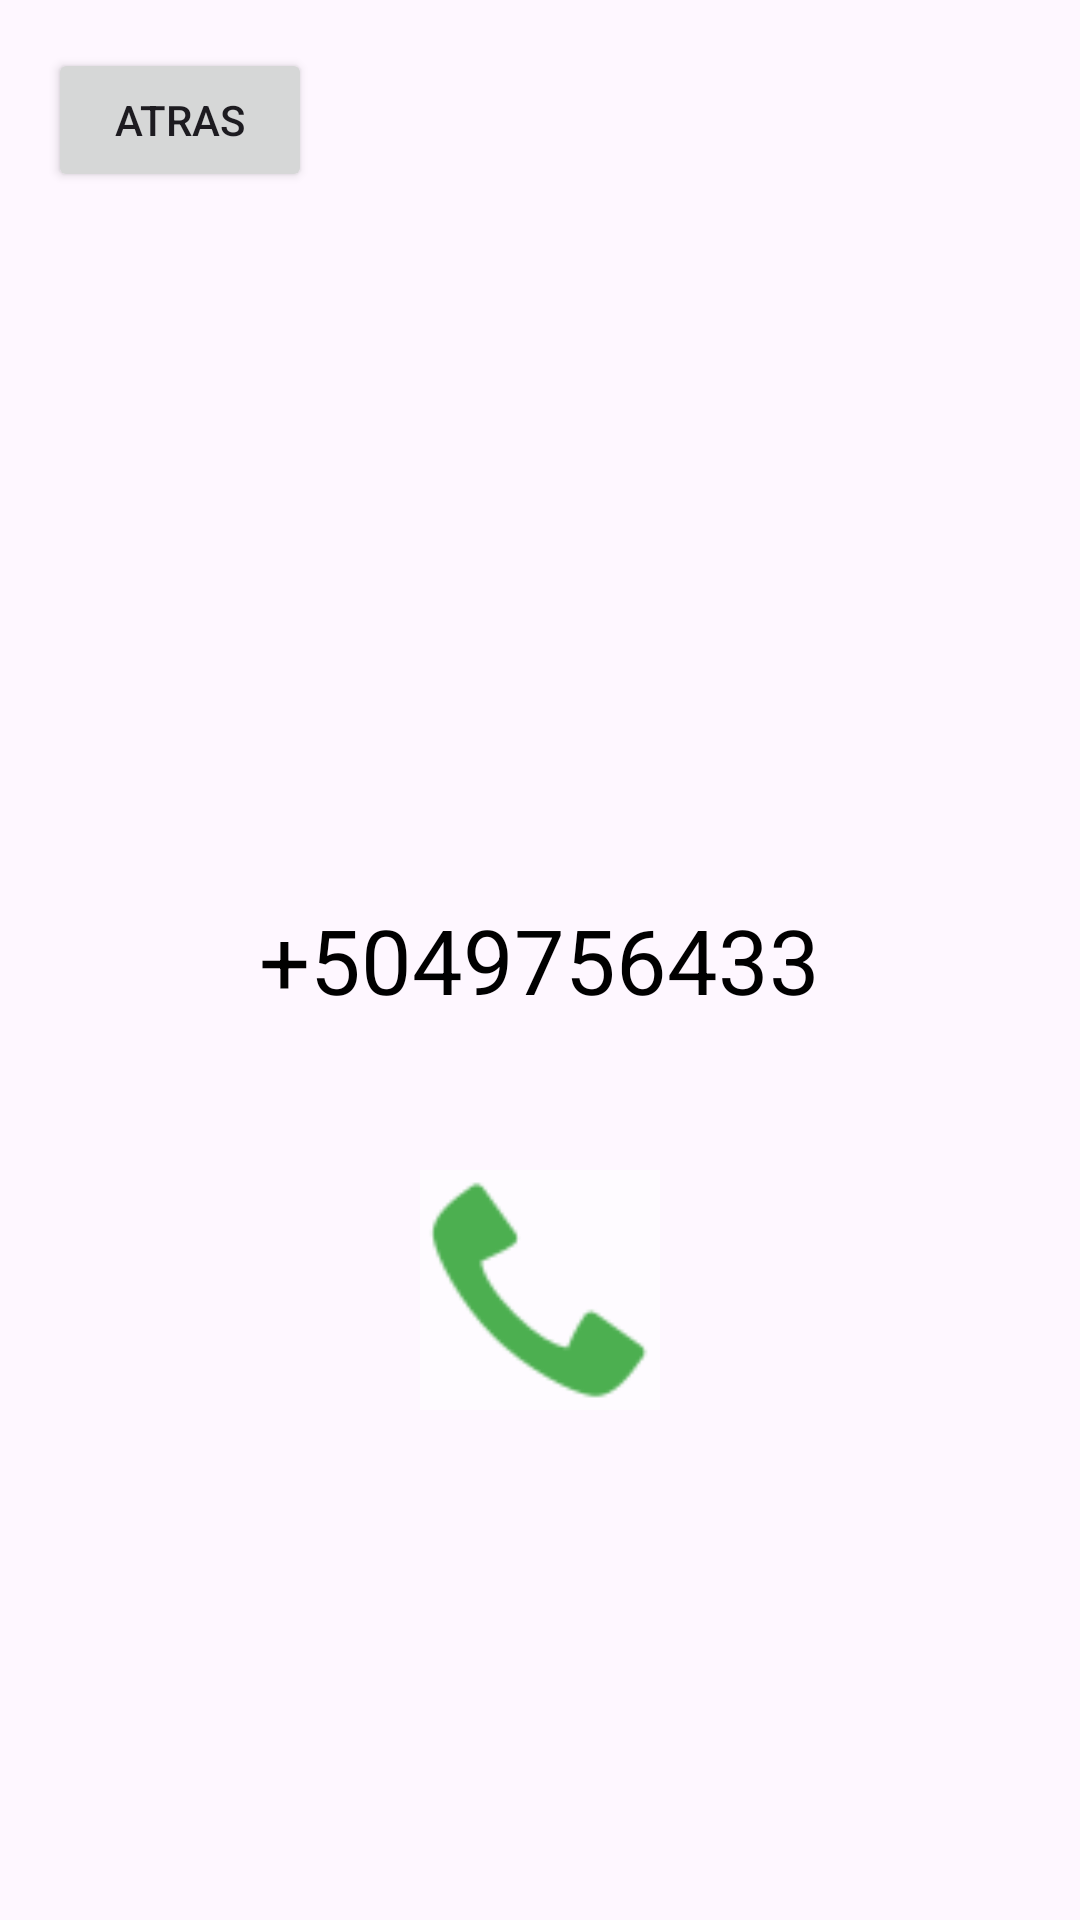

Locate icon controls on the screen. Image size 1080 x 1920, boxes as bbox=[x1, y1, x2, y2].
phone call: bbox=[432, 1183, 647, 1398]
